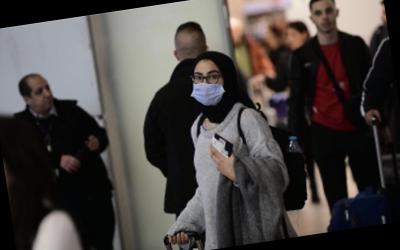with_mask: (186, 67, 227, 108)
without_mask: (29, 81, 56, 112), (313, 4, 340, 34)
